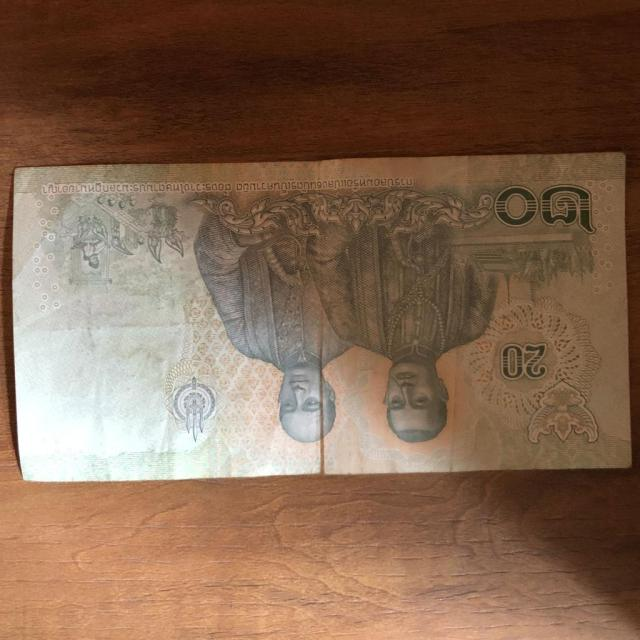THAI20: (10, 152, 632, 485)
